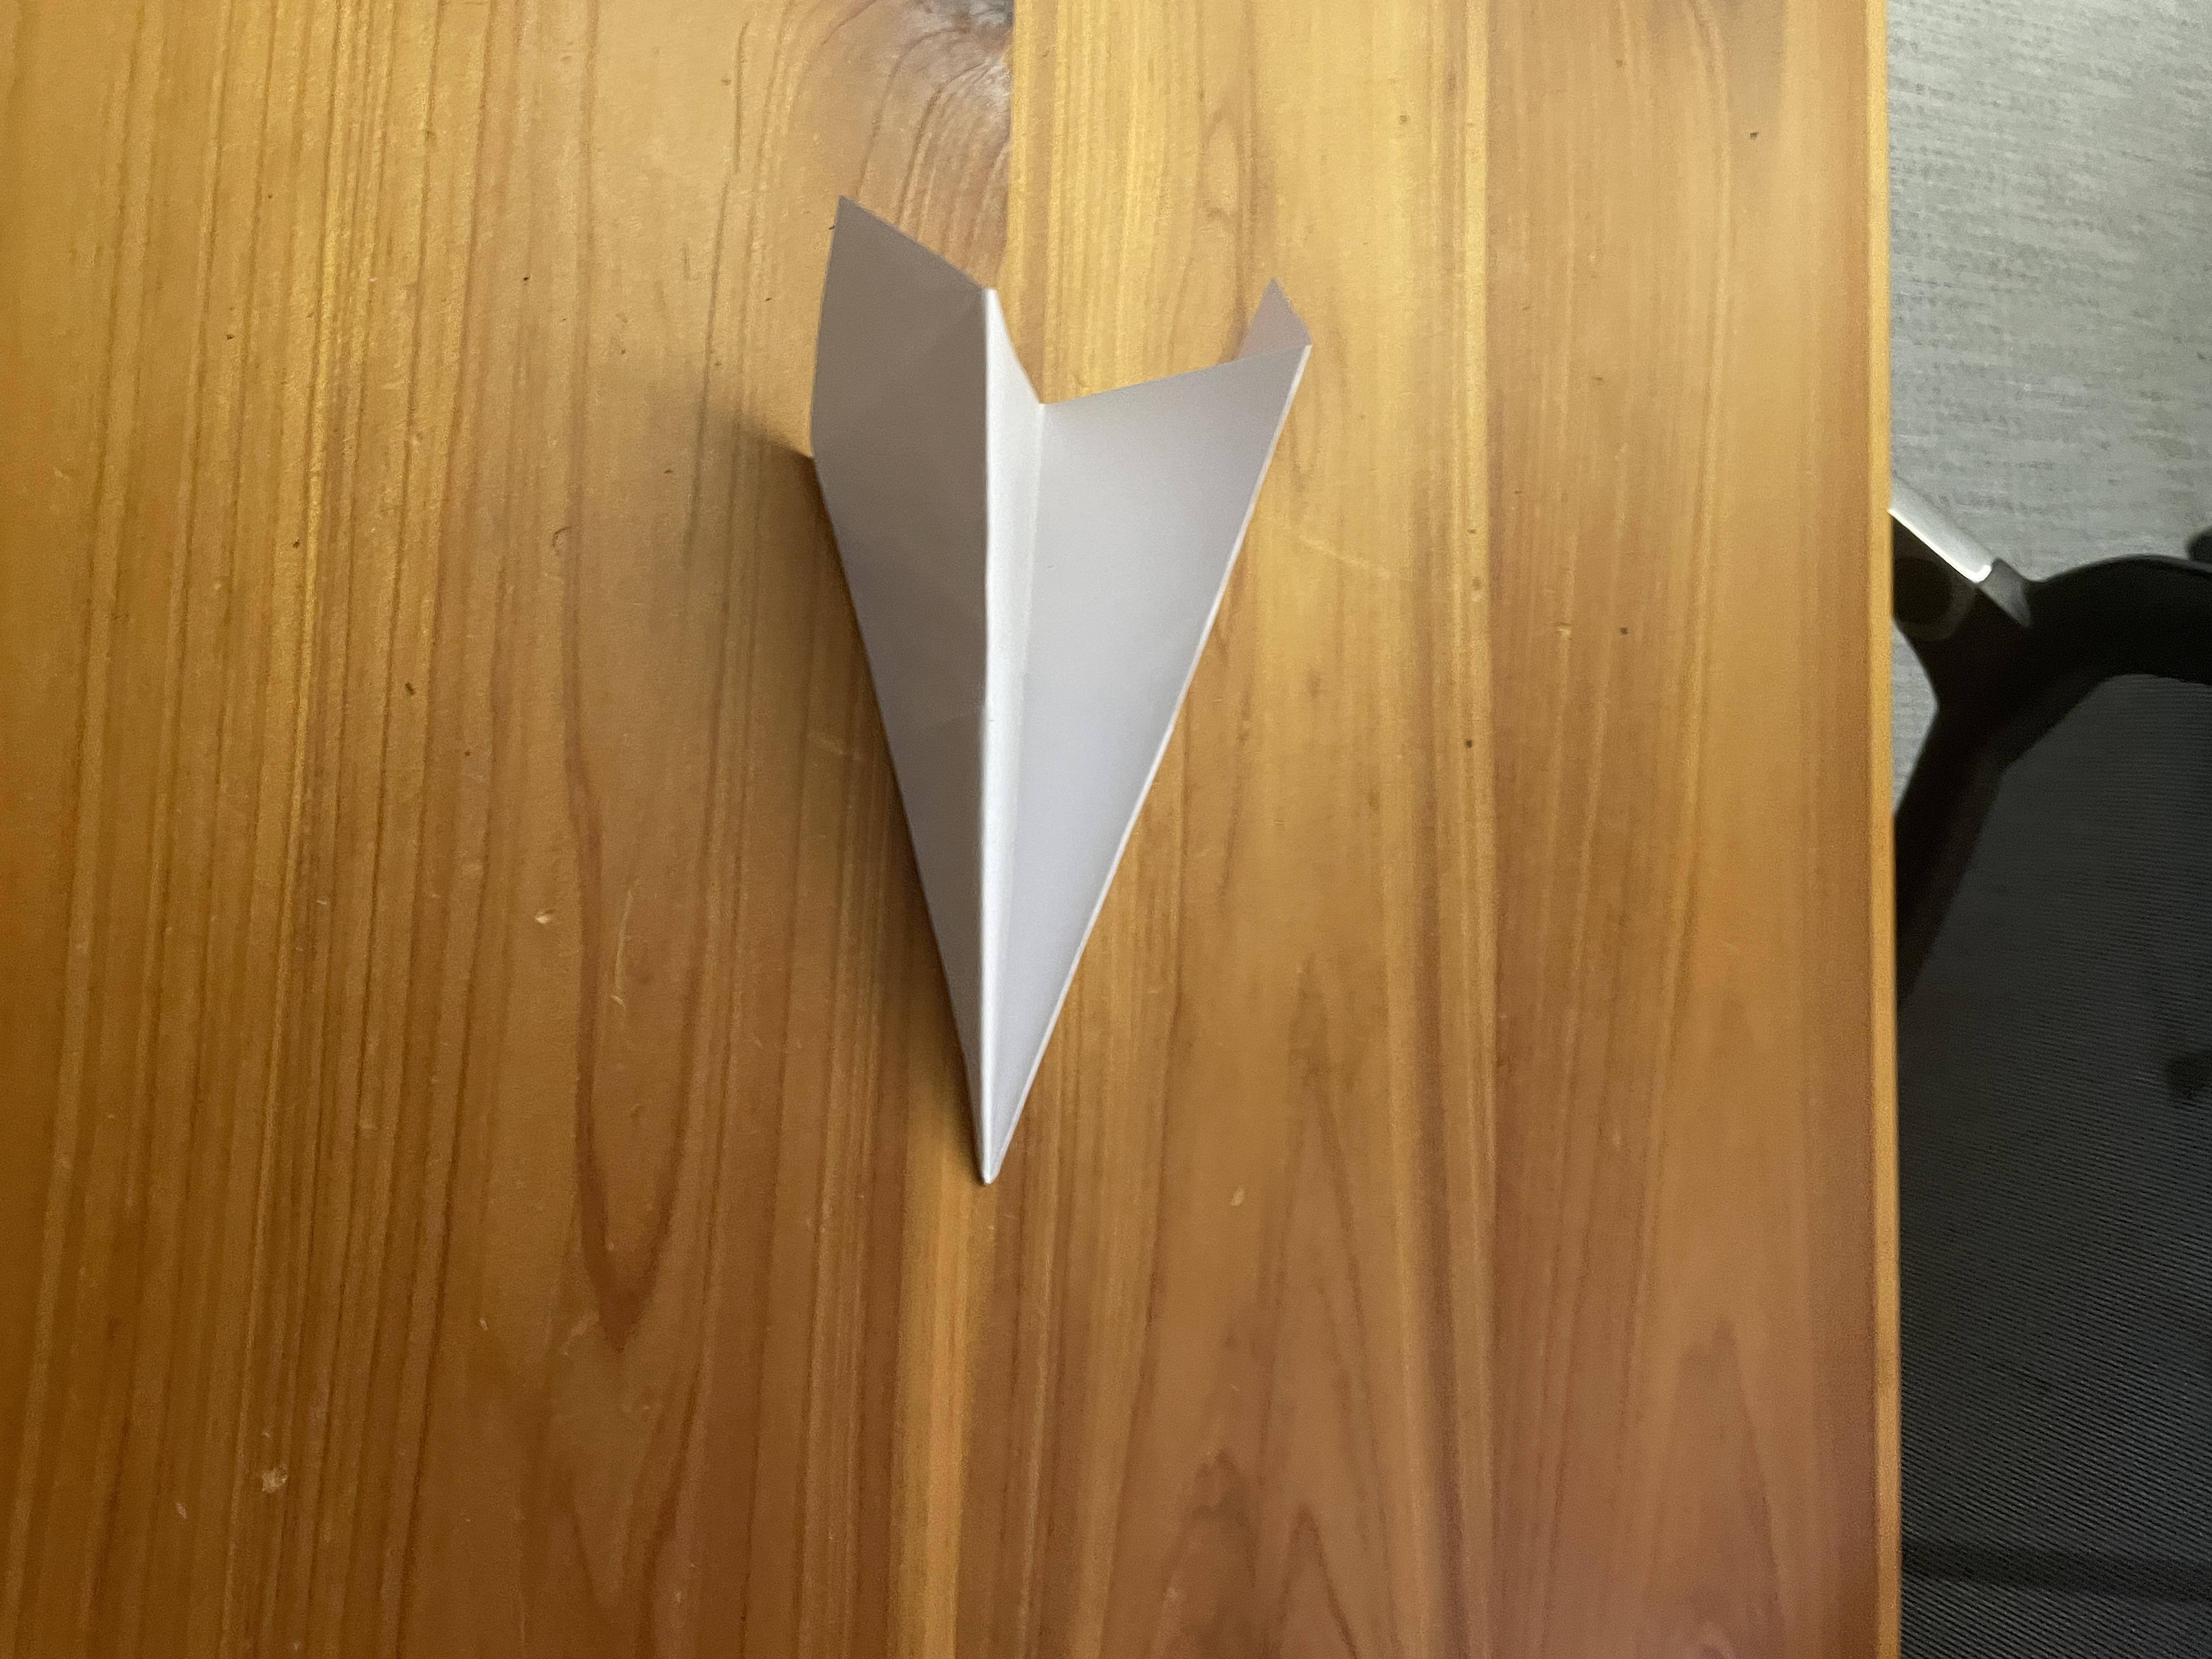shape_3: (648, 110, 1388, 1239)
